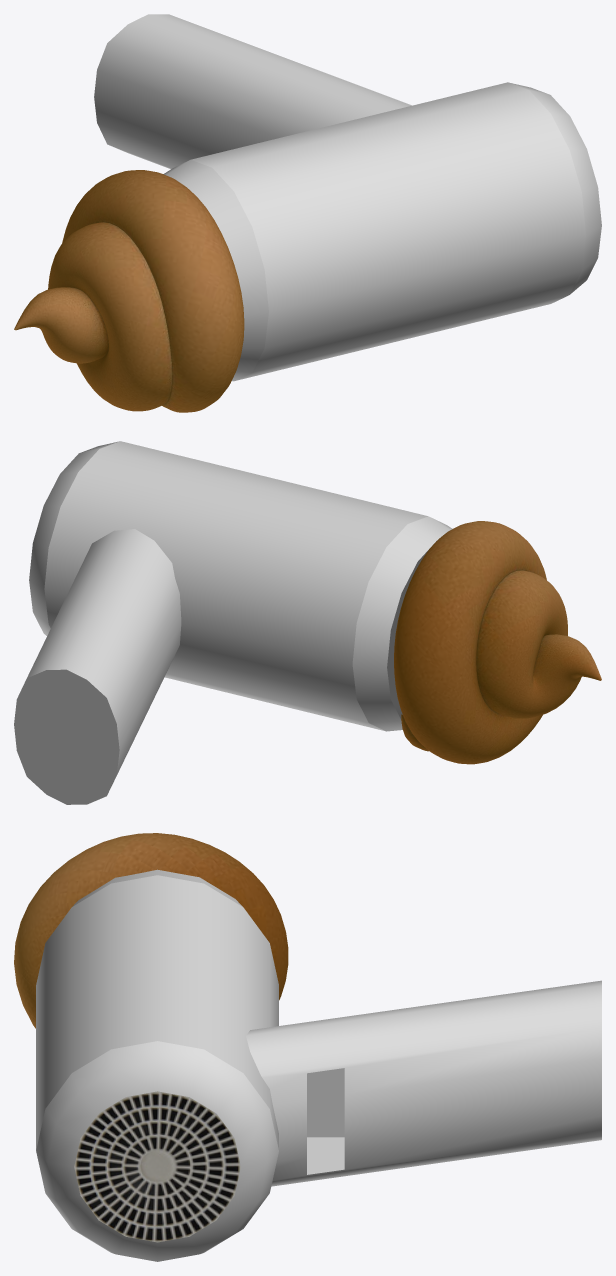
The model's file is shit_hair_dryer.glb.
3 renders of one model, top to bottom at view 1: azimuth 30°, elevation 25°; view 2: azimuth 150°, elevation 25°; view 3: azimuth 270°, elevation 25°, orthographic. The views are drawn at different scales.
Visible parts, largest first — view 1: Object_5; view 2: Object_5; view 3: Object_5, Object_3.
Boxes of the visible parts, box(x1,y1,x2,y2) form: Object_5: box(14, 14, 601, 412); Object_5: box(14, 441, 601, 804); Object_5: box(14, 833, 601, 1261); Object_3: box(74, 1091, 240, 1242).
Size of the model in its own units: 0.5511 by 0.2168 by 0.4792.
Materials: 4 (2 with a texture image).
